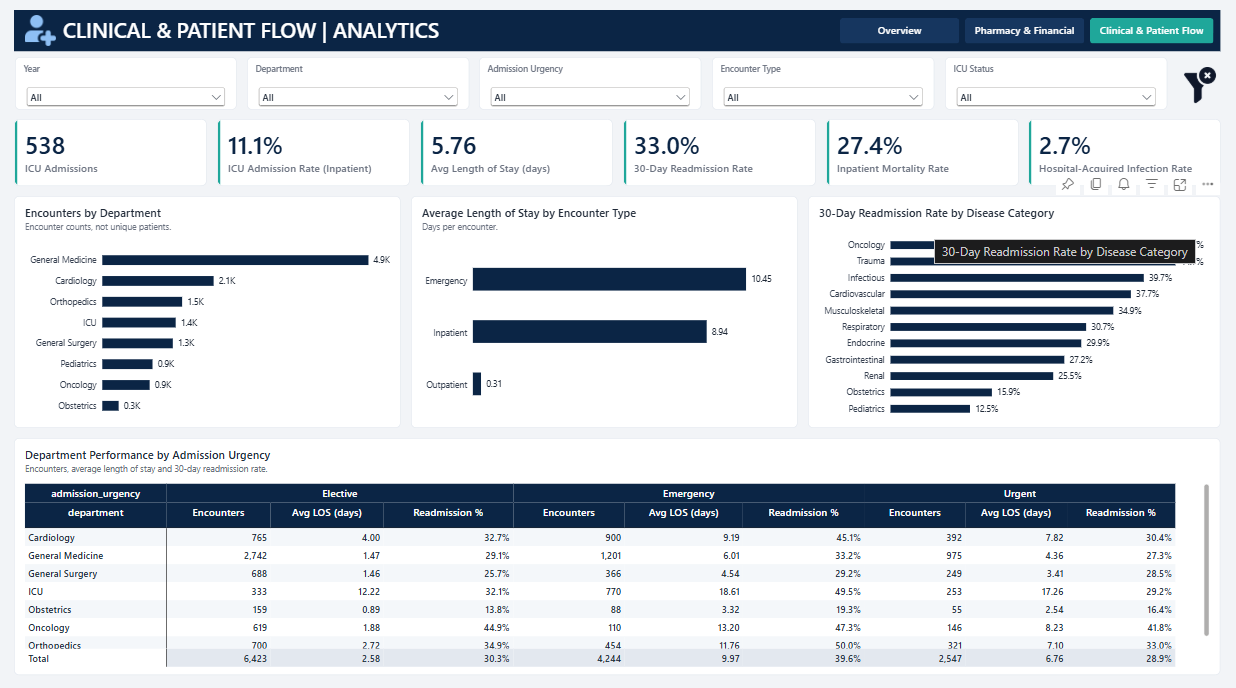

The page's visual inventory and layout, read from the dashboard file:
{"tool":"powerbi","page":{"name":"Clinical & Patient","canvas":[1920,1080],"ordinal":2},"visuals":[{"type":"textbox","box":[24,16,1872,64],"z":0},{"type":"image","box":[40,24,48,48],"z":1000},{"type":"textbox","box":[100,16,1200,64],"z":2000},{"type":"actionButton","box":[1304.8,28.7,185.1,39.7],"z":3000},{"type":"actionButton","box":[1498.8,28.7,185.1,39.7],"z":4000},{"type":"actionButton","box":[1692.7,28.7,191.8,39.7],"z":5000},{"type":"slicer","title":"Year","fields":{"Values":["Calendar.Year"]},"box":[24.2,88.2,343.8,82],"z":6000},{"type":"slicer","title":"Department","fields":{"Values":["vw_hospital_summary.department"]},"box":[384.8,88.2,344.8,82],"z":7000},{"type":"slicer","title":"Admission Urgency","fields":{"Values":["vw_hospital_summary.admission_urgency"]},"box":[745.6,88.2,344.8,82],"z":8000},{"type":"slicer","title":"Encounter Type","fields":{"Values":["vw_hospital_summary.encounter_type"]},"box":[1106.4,88.2,344.8,82],"z":9000},{"type":"slicer","title":"ICU Status","fields":{"Values":["vw_hospital_summary.ICU_Status_Text"]},"box":[1467.2,88.2,344.8,82],"z":10000},{"type":"image","box":[1836,104,56,56],"z":11000},{"type":"cardVisual","fields":{"Data":["_Measures.Total_ICU_Admissions"]},"box":[24,184,298.7,104],"z":12000},{"type":"cardVisual","fields":{"Data":["_Measures.ICU Admission Rate % (Inpatient)"]},"box":[338.7,184,298.7,104],"z":13000},{"type":"cardVisual","fields":{"Data":["_Measures.Avg_Length_Stay"]},"box":[653.3,184,298.7,104],"z":14000},{"type":"cardVisual","fields":{"Data":["_Measures.Readmission_Rate_%"]},"box":[968,184,298.7,104],"z":15000},{"type":"cardVisual","fields":{"Data":["_Measures.Inpatient Mortality Rate %"]},"box":[1282.7,184,298.7,104],"z":16000},{"type":"cardVisual","fields":{"Data":["_Measures.Hospital-Acquired Infection Rate %"]},"box":[1597.3,184,298.7,104],"z":17000},{"type":"clusteredBarChart","title":"Encounters by Department","fields":{"Category":["vw_hospital_summary.department"],"Y":["_Measures.Total_Encounters"]},"box":[24,304,600,360],"z":18000},{"type":"clusteredBarChart","title":"Average Length of Stay by Encounter Type","fields":{"Category":["vw_hospital_summary.encounter_type"],"Y":["_Measures.Avg_Length_Stay"]},"box":[640,304,600,360],"z":19000},{"type":"clusteredBarChart","title":"30-Day Readmission Rate by Disease Category","fields":{"Category":["Clinical_Details.disease_category"],"Y":["_Measures.Readmission_Rate_%"]},"box":[1256,304,640,360],"z":20000},{"type":"pivotTable","title":"Department Performance by Admission Urgency","fields":{"Columns":["vw_hospital_summary.admission_urgency"],"Rows":["vw_hospital_summary.department"],"Values":["_Measures.Total_Encounters","_Measures.Avg_Length_Stay","_Measures.Readmission_Rate_%"]},"box":[24,680,1872,368],"z":21000}]}

Visuals, with their boxes in screenshot pixels (x1, y1, x2, y2), scaled from the page's 1920x1080 canvas onto the 1236x688 screenshot:
textbox: crop(15, 10, 1221, 51)
image: crop(26, 15, 57, 46)
textbox: crop(64, 10, 837, 51)
actionButton: crop(840, 18, 959, 44)
actionButton: crop(965, 18, 1084, 44)
actionButton: crop(1090, 18, 1213, 44)
"Year" slicer: crop(16, 56, 237, 108)
"Department" slicer: crop(248, 56, 470, 108)
"Admission Urgency" slicer: crop(480, 56, 702, 108)
"Encounter Type" slicer: crop(712, 56, 934, 108)
"ICU Status" slicer: crop(945, 56, 1166, 108)
image: crop(1182, 66, 1218, 102)
cardVisual - _Measures.Total_ICU_Admissions: crop(15, 117, 208, 183)
cardVisual - _Measures.ICU Admission Rate % (Inpatient): crop(218, 117, 410, 183)
cardVisual - _Measures.Avg_Length_Stay: crop(421, 117, 613, 183)
cardVisual - _Measures.Readmission_Rate_%: crop(623, 117, 815, 183)
cardVisual - _Measures.Inpatient Mortality Rate %: crop(826, 117, 1018, 183)
cardVisual - _Measures.Hospital-Acquired Infection Rate %: crop(1028, 117, 1221, 183)
"Encounters by Department" clusteredBarChart: crop(15, 194, 402, 423)
"Average Length of Stay by Encounter Type" clusteredBarChart: crop(412, 194, 798, 423)
"30-Day Readmission Rate by Disease Category" clusteredBarChart: crop(809, 194, 1221, 423)
"Department Performance by Admission Urgency" pivotTable: crop(15, 433, 1221, 668)
